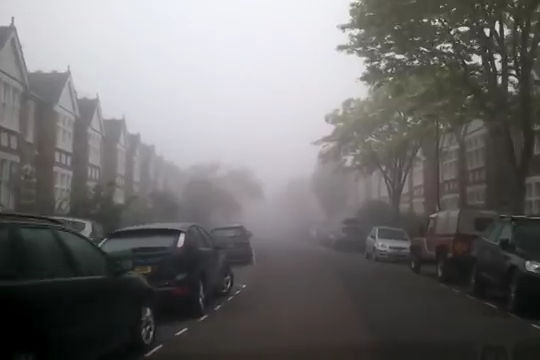car: (1, 213, 158, 360), (92, 222, 233, 318), (468, 209, 540, 323), (409, 208, 507, 288), (205, 223, 253, 267), (363, 223, 413, 264), (328, 222, 365, 251)
